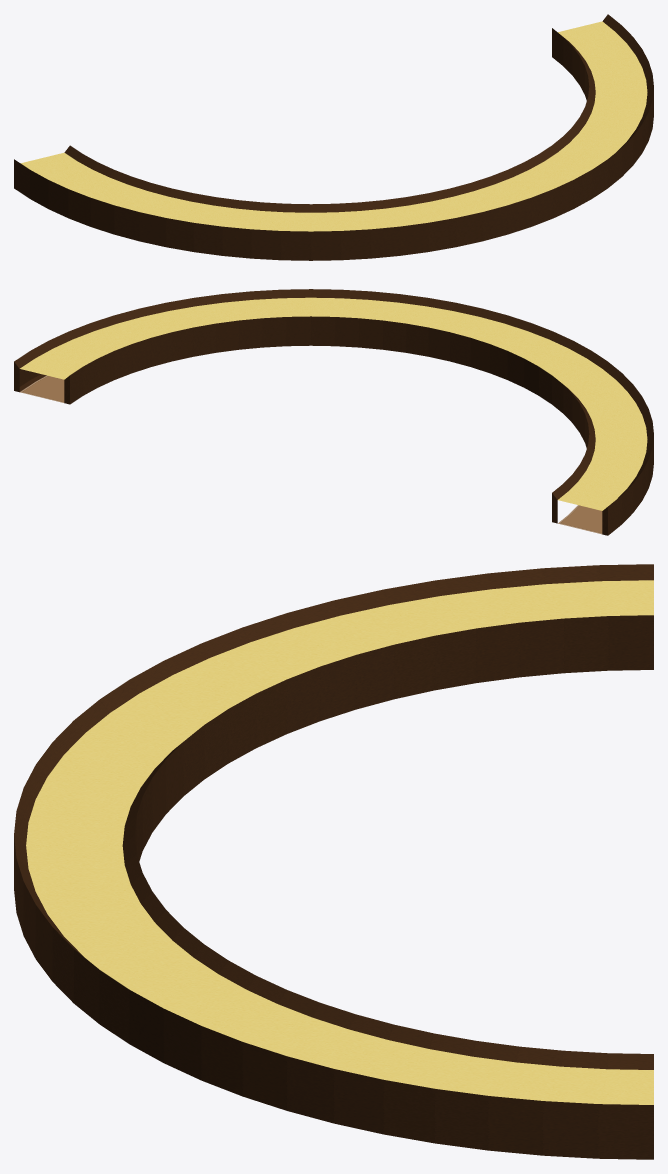
File: PrecipiceSandCurve.obj
The picture shows the model from 3 angles, top to bottom: view 1: azimuth 30°, elevation 25°; view 2: azimuth 150°, elevation 25°; view 3: azimuth 270°, elevation 25°; orthographic projection. The views are drawn at different scales.
Parts seen in each view (by area): view 1: PrecipiceSandCurve; view 2: PrecipiceSandCurve; view 3: PrecipiceSandCurve.
Part boxes in pixels (x1,y1,x2,y2): PrecipiceSandCurve: [14, 14, 653, 260]; PrecipiceSandCurve: [14, 289, 653, 535]; PrecipiceSandCurve: [14, 564, 653, 1159].
Size of the model in its own units: 13.25 by 0.625 by 6.63.
